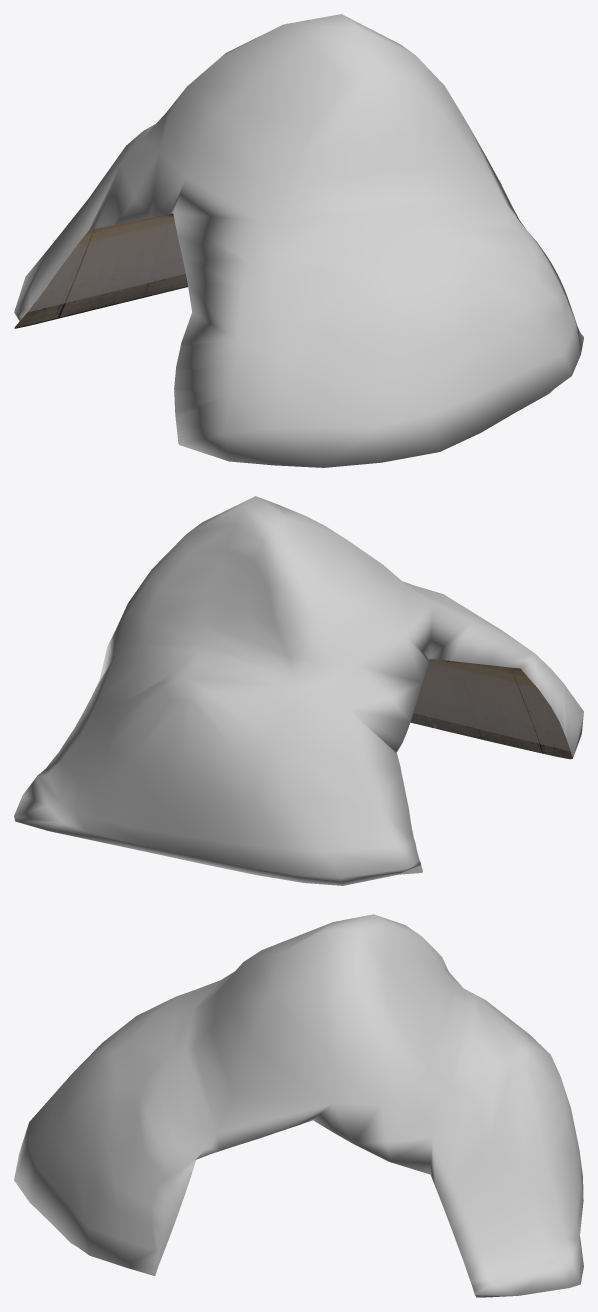
Rendered from montaña tunel.fbx.
The picture shows the model from 3 angles, top to bottom: view 1: azimuth 30°, elevation 25°; view 2: azimuth 150°, elevation 25°; view 3: azimuth 270°, elevation 25°; orthographic projection. The views are drawn at different scales.
Parts seen in each view (by area): view 1: Cubo; view 2: Cubo; view 3: Cubo.
Part boxes in pixels (<box>): Cubo: <box>14,14,583,467</box>; Cubo: <box>14,496,583,885</box>; Cubo: <box>14,914,583,1297</box>.
Bounding box in the file's own units: 24.41 × 16.22 × 28.79.
